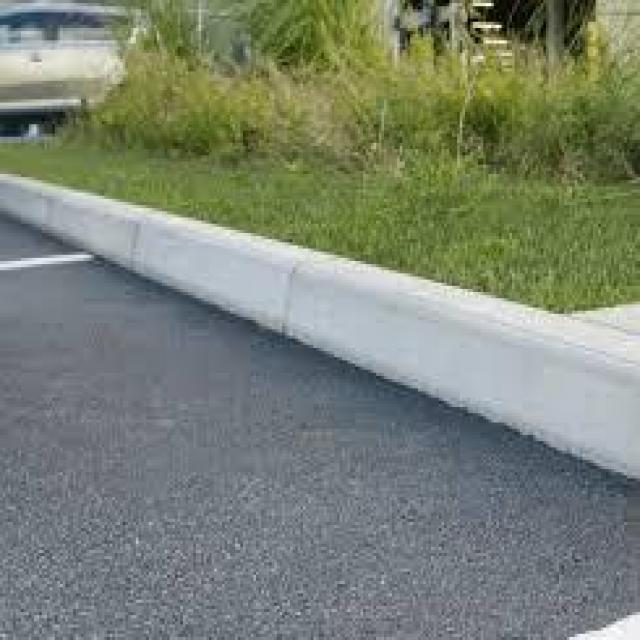curb: (1, 173, 640, 478)
